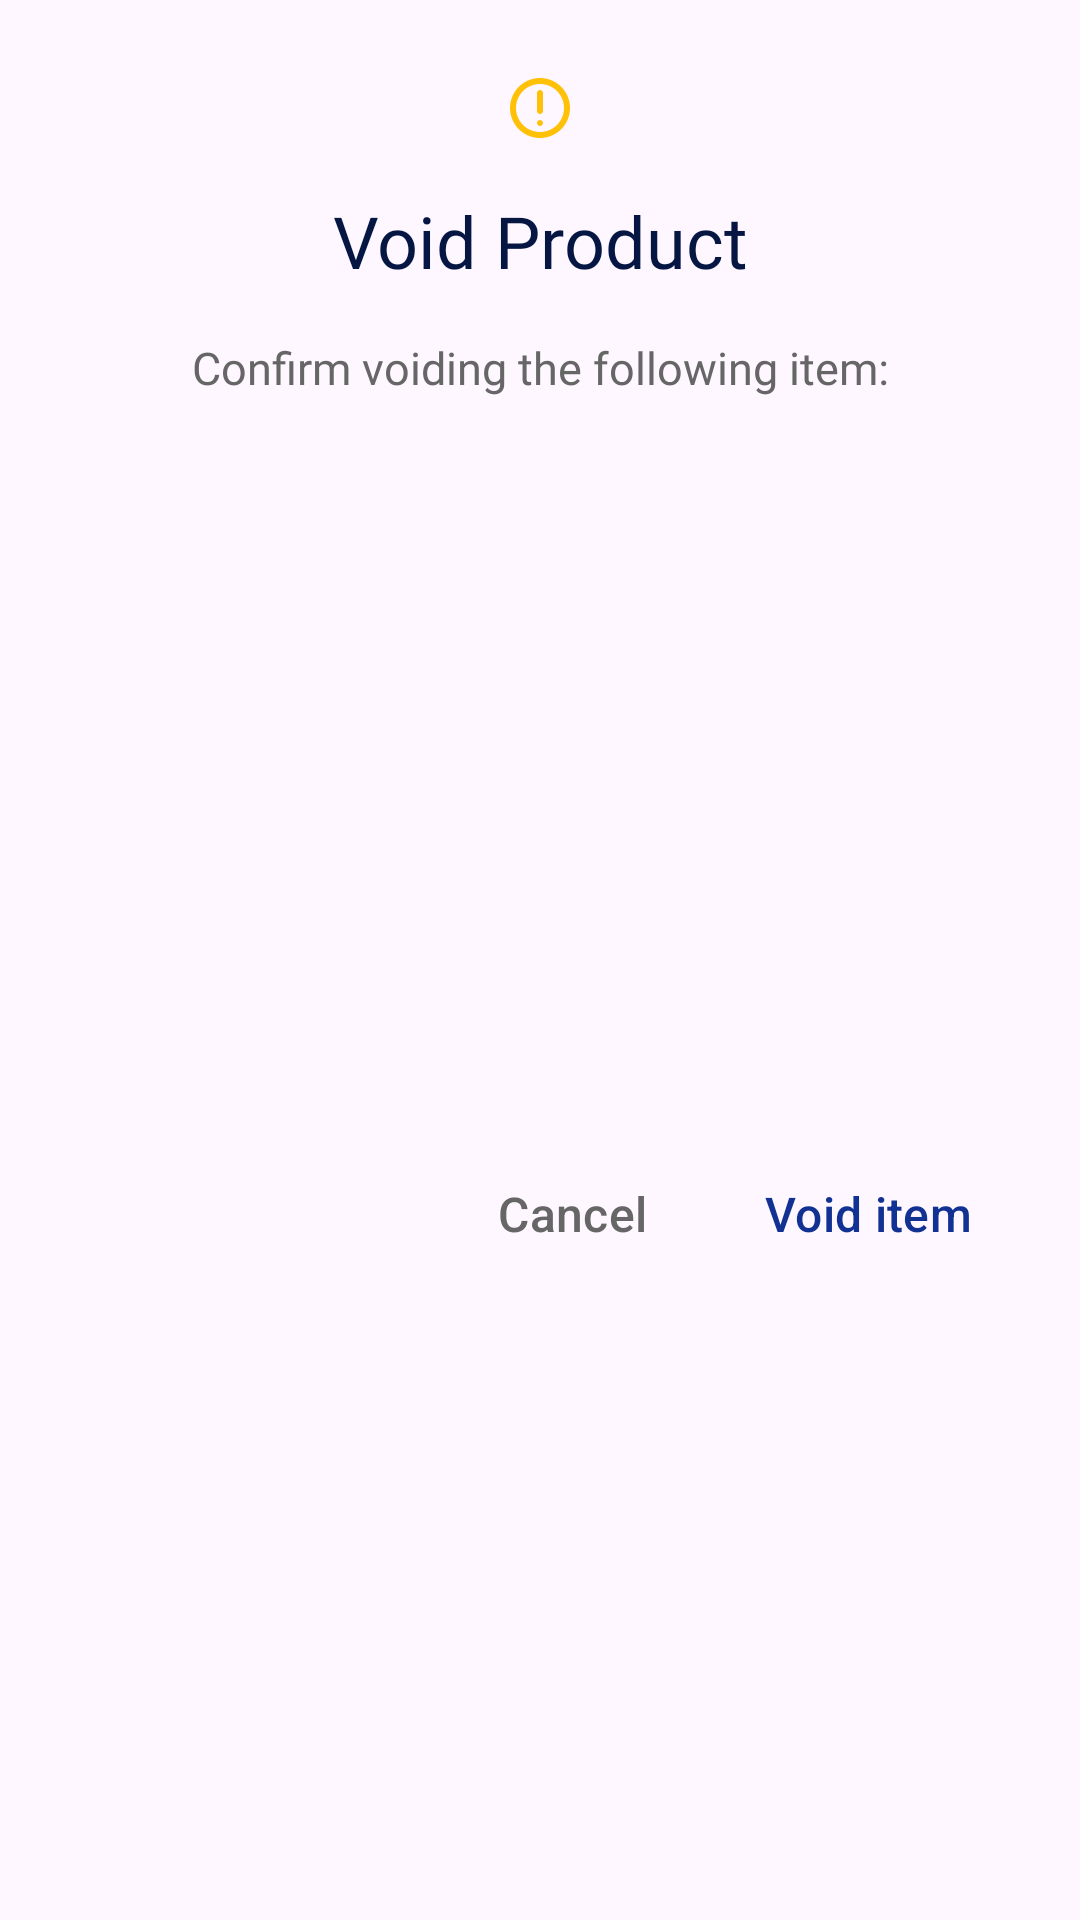

Screen size 1080 x 1920. Icon name, then its center in pixels as [x,y]:
attention: [540,108]
